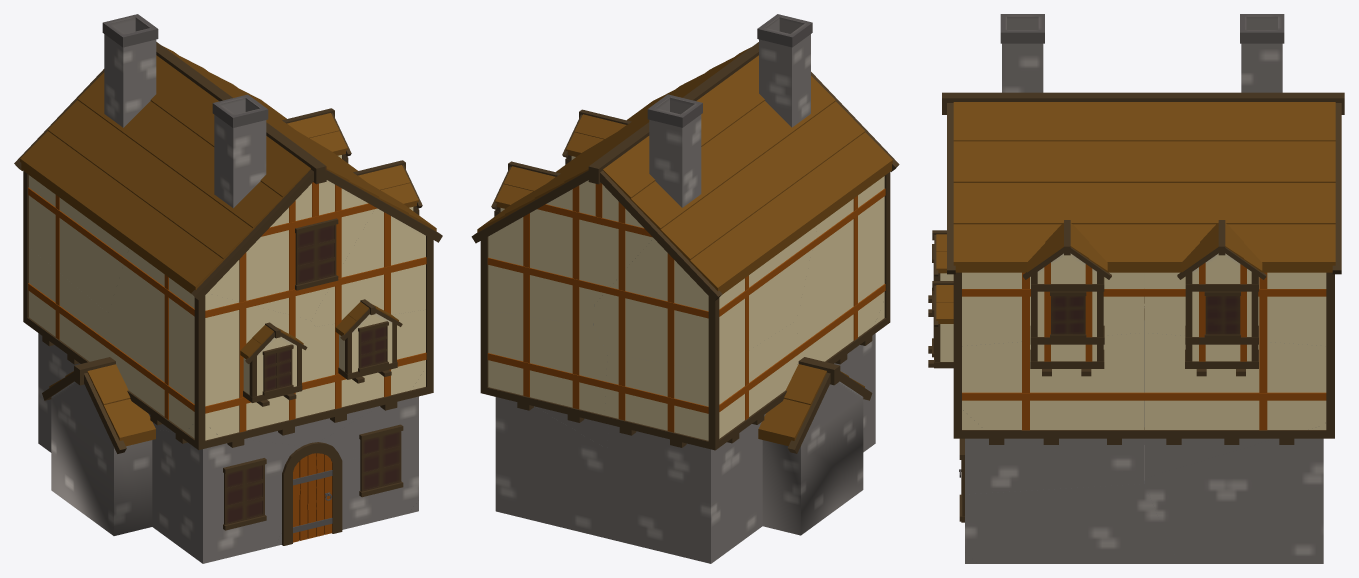
The model's file is ExplodedHouseCastle#5.fbx.
The picture shows the model from 3 angles, left to right: view 1: azimuth 30°, elevation 25°; view 2: azimuth 150°, elevation 25°; view 3: azimuth 270°, elevation 25°; orthographic projection. The views are drawn at different scales.
Parts seen in each view (by area): view 1: HouseCastle#5_cell.003, HouseCastle#5_cell.008, HouseCastle#5.150, HouseCastle#5.147, HouseCastle#5.146, HouseCastle#5.110, HouseCastle#5.140, HouseCastle#5_cell.012, HouseCastle#5_cell.015, HouseCastle#5_cell.011, HouseCastle#5_cell.009, HouseCastle#5.149 (+41 smaller); view 2: HouseCastle#5_cell.015, HouseCastle#5_cell.011, HouseCastle#5_cell.002, HouseCastle#5.150, HouseCastle#5.147, HouseCastle#5_cell.003, HouseCastle#5.146, HouseCastle#5_cell.018, HouseCastle#5.110, HouseCastle#5_cell.014, HouseCastle#5.140, HouseCastle#5_cell.006 (+26 smaller); view 3: HouseCastle#5_cell.002, HouseCastle#5.142, HouseCastle#5.143, HouseCastle#5.141, HouseCastle#5_cell.018, HouseCastle#5_cell.016, HouseCastle#5_cell.009, HouseCastle#5.144, HouseCastle#5_cell.013, HouseCastle#5_cell.014, HouseCastle#5.110, HouseCastle#5_cell.012 (+28 smaller).
Boxes of the visible parts, left/top/right/bottom form: HouseCastle#5_cell.003: left=108, top=248, right=315, bottom=445; HouseCastle#5_cell.008: left=152, top=429, right=302, bottom=563; HouseCastle#5.150: left=51, top=381, right=152, bottom=535; HouseCastle#5.147: left=20, top=131, right=223, bottom=293; HouseCastle#5.146: left=48, top=100, right=252, bottom=260; HouseCastle#5.110: left=23, top=171, right=433, bottom=449; HouseCastle#5.140: left=77, top=72, right=282, bottom=229; HouseCastle#5_cell.012: left=311, top=208, right=425, bottom=326; HouseCastle#5_cell.015: left=29, top=248, right=108, bottom=452; HouseCastle#5_cell.011: left=29, top=175, right=128, bottom=312; HouseCastle#5_cell.009: left=311, top=309, right=425, bottom=442; HouseCastle#5.149: left=212, top=94, right=268, bottom=208; HouseCastle#5_cell.015: left=604, top=320, right=797, bottom=563; HouseCastle#5_cell.011: left=593, top=225, right=817, bottom=371; HouseCastle#5_cell.002: left=490, top=383, right=607, bottom=538; HouseCastle#5.150: left=762, top=381, right=863, bottom=535; HouseCastle#5.147: left=690, top=132, right=892, bottom=294; HouseCastle#5_cell.003: left=797, top=176, right=884, bottom=364; HouseCastle#5.146: left=660, top=101, right=865, bottom=261; HouseCastle#5_cell.018: left=488, top=310, right=608, bottom=448; HouseCastle#5.110: left=480, top=172, right=890, bottom=450; HouseCastle#5_cell.014: left=488, top=209, right=594, bottom=326; HouseCastle#5.140: left=631, top=76, right=835, bottom=230; HouseCastle#5_cell.006: left=541, top=180, right=653, bottom=304; HouseCastle#5_cell.002: left=1144, top=425, right=1323, bottom=563; HouseCastle#5.142: left=953, top=141, right=1335, bottom=182; HouseCastle#5.143: left=953, top=183, right=1335, bottom=224; HouseCastle#5.141: left=953, top=102, right=1335, bottom=141; HouseCastle#5_cell.018: left=1144, top=333, right=1326, bottom=477; HouseCastle#5_cell.016: left=965, top=479, right=1178, bottom=563; HouseCastle#5_cell.009: left=962, top=333, right=1143, bottom=477; HouseCastle#5.144: left=953, top=224, right=1335, bottom=272; HouseCastle#5_cell.013: left=965, top=438, right=1143, bottom=494; HouseCastle#5_cell.014: left=1144, top=272, right=1326, bottom=345; HouseCastle#5.110: left=953, top=272, right=1334, bottom=438; HouseCastle#5_cell.012: left=962, top=272, right=1143, bottom=345.
Bounding box in the file's own units: 1812 × 2476 × 2029.
